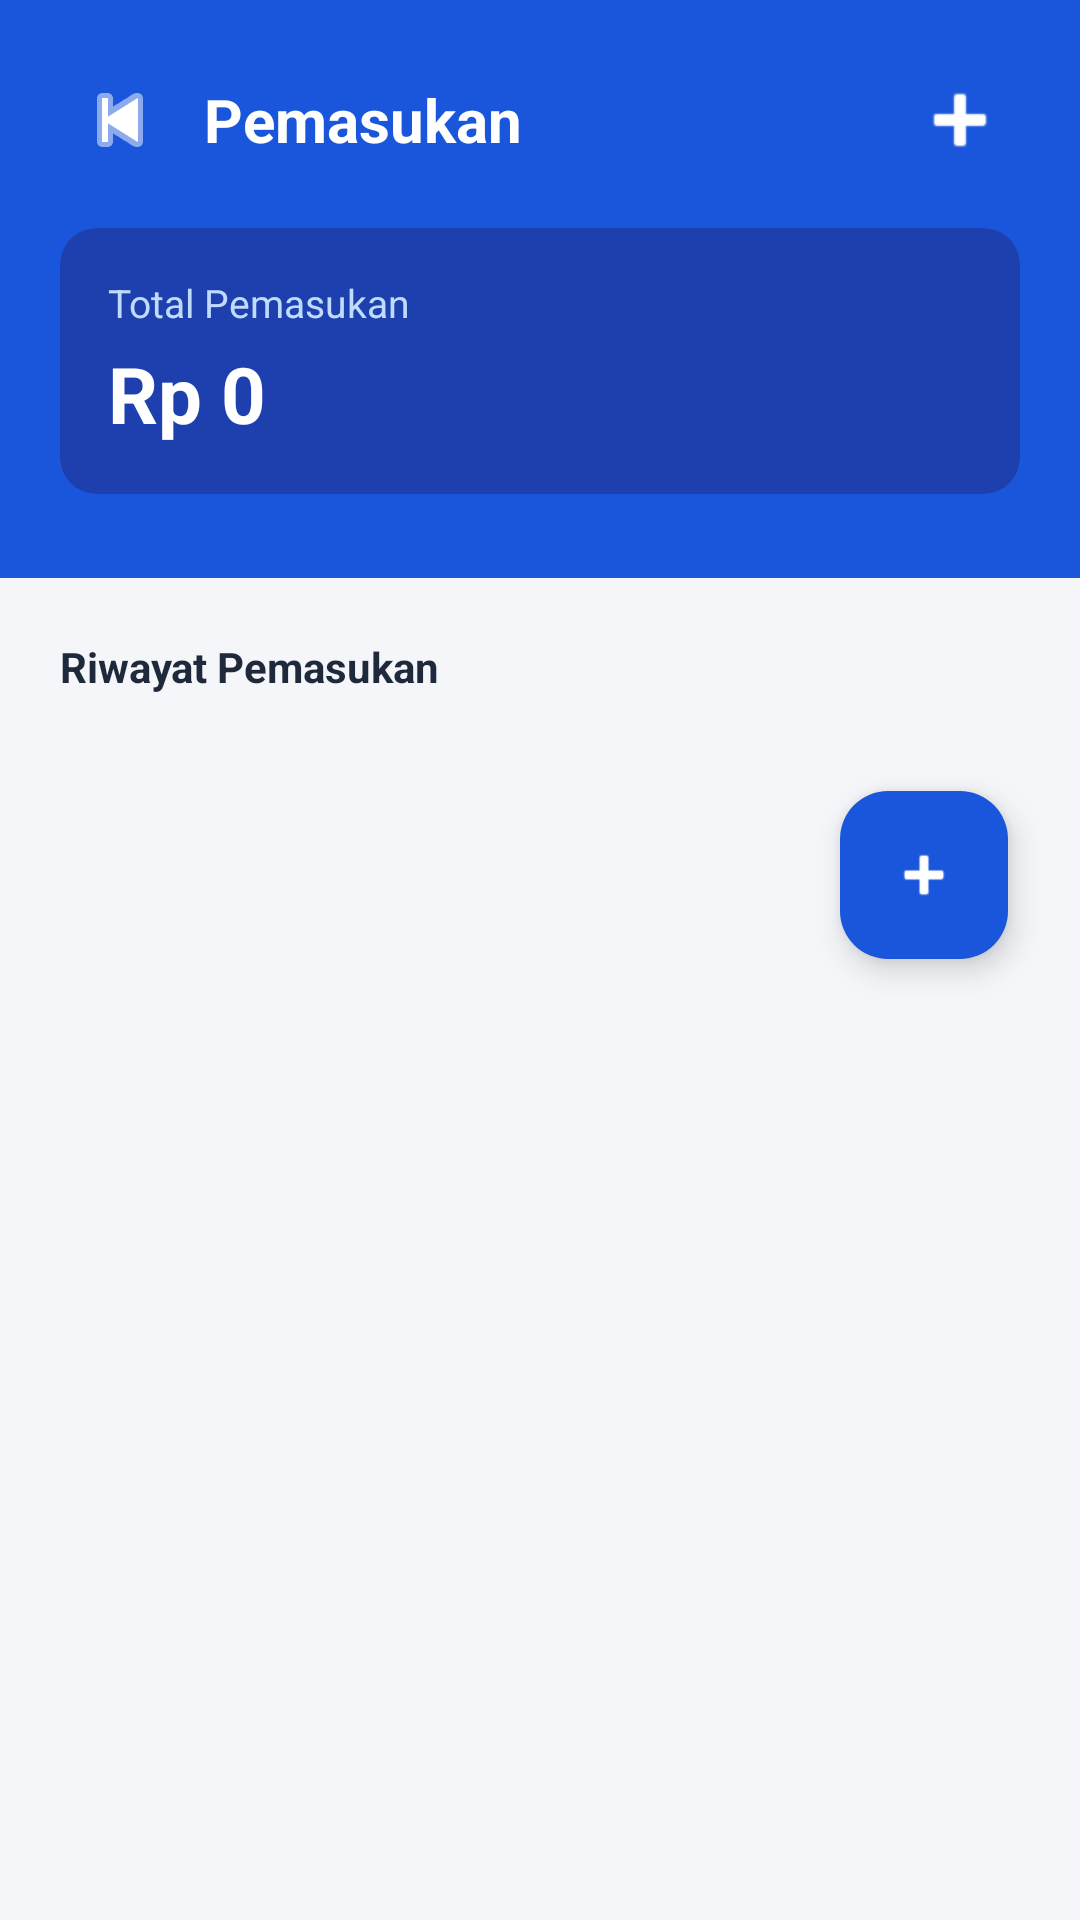

Where icons sit on this 1080×1920 app screen, as (x1, y1, x2, y2):
Kembali: (97, 93, 143, 147)
